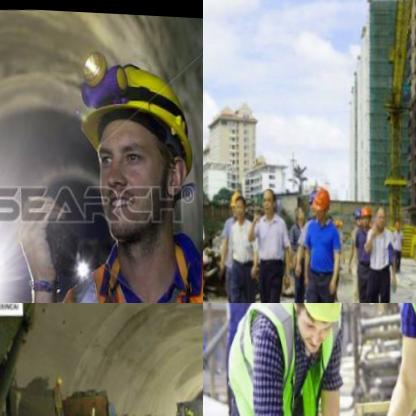helmet: (63, 36, 203, 257), (288, 303, 347, 356), (311, 181, 334, 224), (360, 200, 373, 226), (230, 185, 240, 216), (352, 202, 363, 227)
